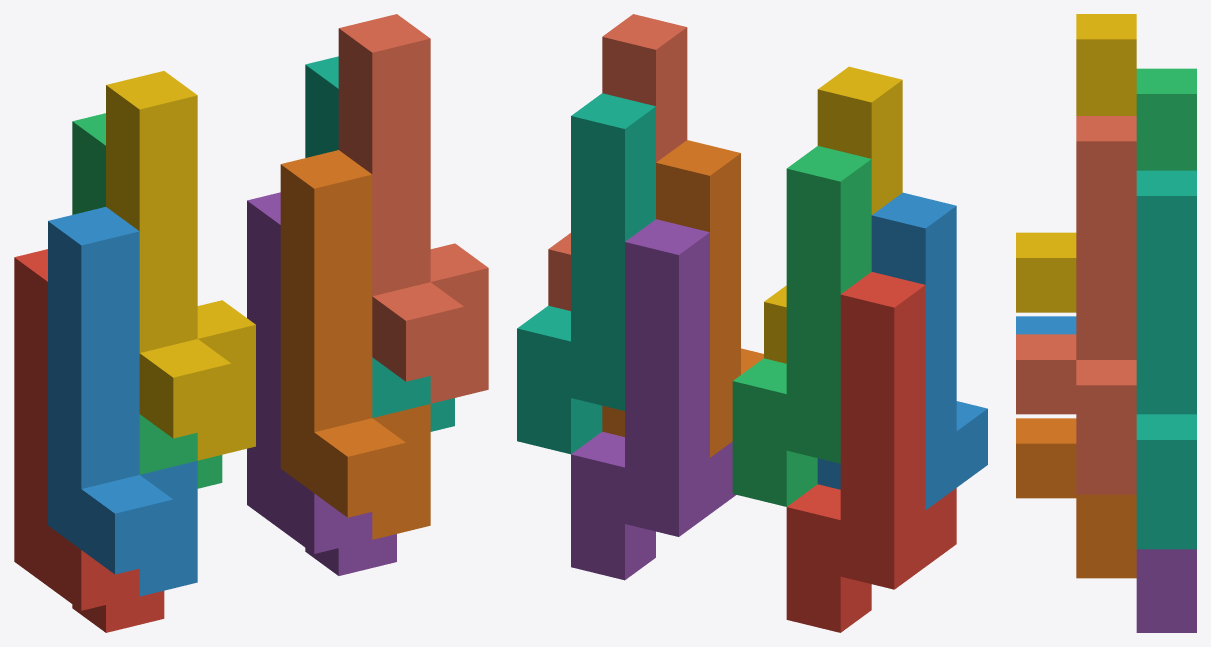
File: tiling.obj
The picture shows the model from 3 angles, left to right: view 1: azimuth 30°, elevation 25°; view 2: azimuth 150°, elevation 25°; view 3: azimuth 270°, elevation 25°; orthographic projection. The views are drawn at different scales.
Parts seen in each view (by area): view 1: copy_1_domain_6, copy_1_domain_2, copy_1_domain_8, copy_1_domain_4, copy_1_domain_1, copy_1_domain_5, copy_1_domain_3, copy_1_domain_7; view 2: copy_1_domain_1, copy_1_domain_5, copy_1_domain_3, copy_1_domain_7, copy_1_domain_2, copy_1_domain_6, copy_1_domain_4, copy_1_domain_8; view 3: copy_1_domain_8, copy_1_domain_7, copy_1_domain_4, copy_1_domain_6, copy_1_domain_3, copy_1_domain_5, copy_1_domain_2.
Boxes of the visible parts, left/top/right/bottom form: copy_1_domain_6: left=280, top=150, right=430, bottom=539; copy_1_domain_2: left=48, top=207, right=197, bottom=596; copy_1_domain_8: left=338, top=14, right=488, bottom=403; copy_1_domain_4: left=106, top=71, right=255, bottom=460; copy_1_domain_1: left=14, top=249, right=164, bottom=632; copy_1_domain_5: left=247, top=192, right=396, bottom=575; copy_1_domain_3: left=72, top=113, right=222, bottom=488; copy_1_domain_7: left=305, top=56, right=454, bottom=431; copy_1_domain_1: left=786, top=272, right=956, bottom=632; copy_1_domain_5: left=571, top=219, right=736, bottom=580; copy_1_domain_3: left=732, top=146, right=871, bottom=506; copy_1_domain_7: left=517, top=93, right=655, bottom=454; copy_1_domain_2: left=817, top=192, right=987, bottom=509; copy_1_domain_6: left=602, top=140, right=763, bottom=457; copy_1_domain_4: left=764, top=66, right=902, bottom=363; copy_1_domain_8: left=548, top=14, right=687, bottom=310; copy_1_domain_8: left=1016, top=116, right=1136, bottom=494; copy_1_domain_7: left=1136, top=170, right=1196, bottom=549; copy_1_domain_4: left=1016, top=14, right=1136, bottom=312; copy_1_domain_6: left=1016, top=418, right=1136, bottom=578; copy_1_domain_3: left=1136, top=68, right=1196, bottom=170; copy_1_domain_5: left=1136, top=549, right=1196, bottom=632; copy_1_domain_2: left=1016, top=316, right=1076, bottom=334.
Bounding box in the file's own units: 7 × 9 × 3.
